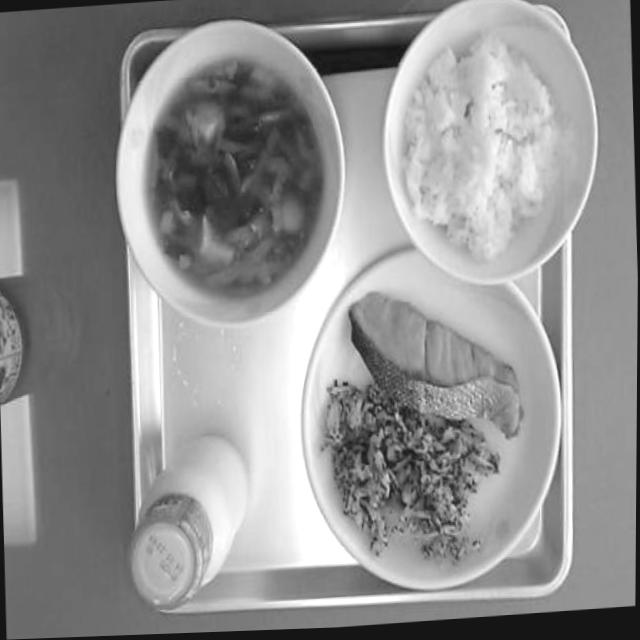熟制海鲜: (107, 187, 271, 479)
